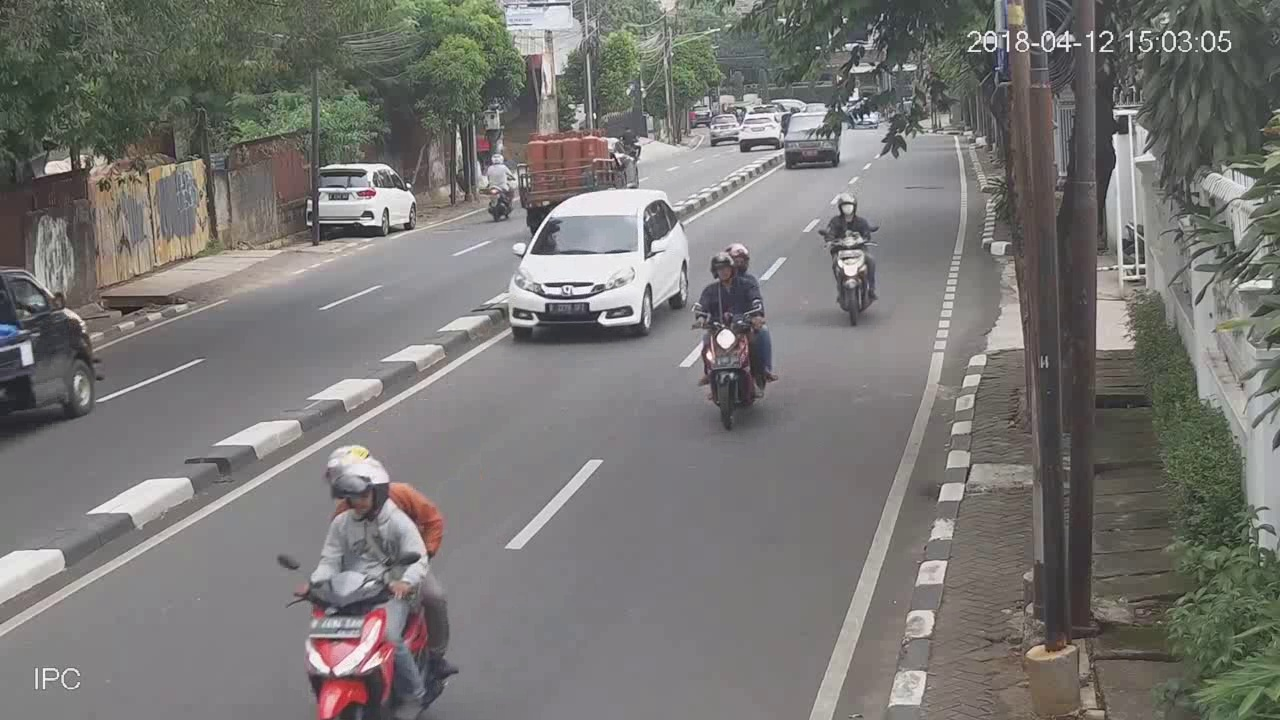car: (507, 188, 692, 339), (307, 159, 423, 241), (787, 111, 842, 168), (738, 113, 783, 153), (709, 113, 738, 146)
motorcycle: (299, 445, 459, 720), (697, 246, 780, 434), (814, 184, 889, 327), (482, 150, 516, 224)
